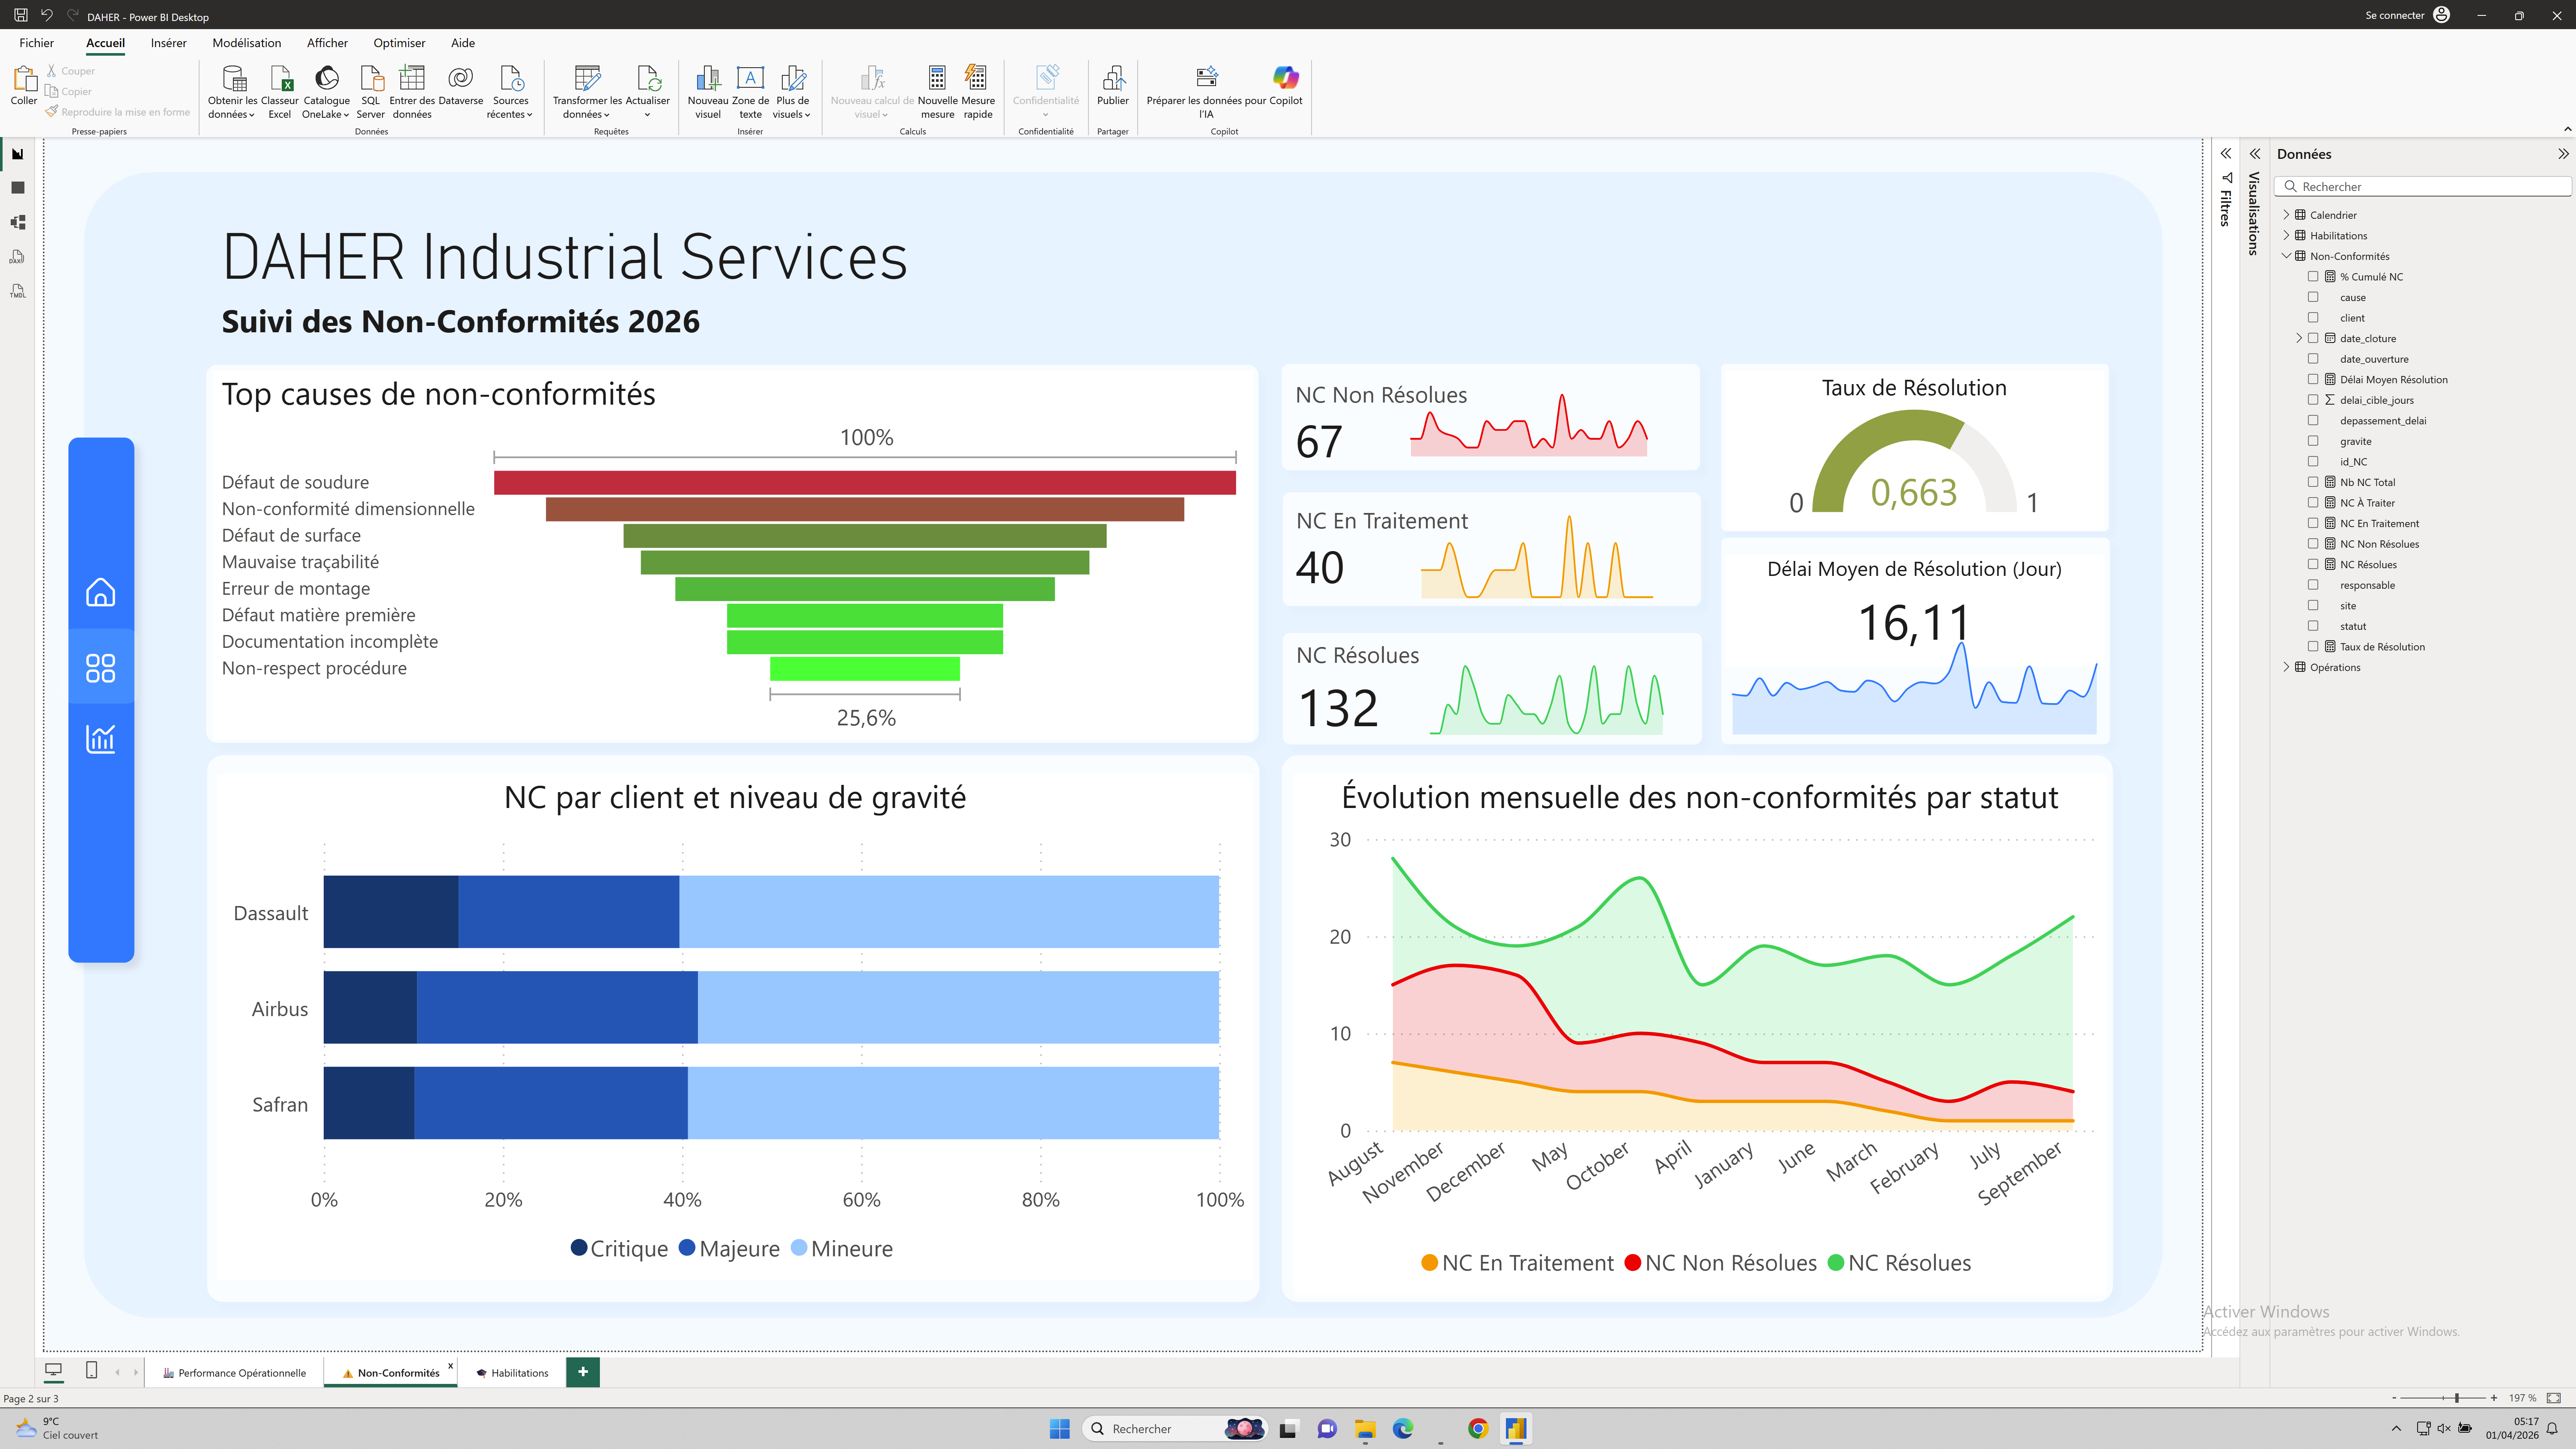

The dashboard page shown, as its layout file describes it:
{"tool":"powerbi","page":{"name":"⚠️ Non-Conformités","canvas":[1280,720],"ordinal":1},"visuals":[{"type":"shape","box":[23.3,20.9,1233.4,679.9],"z":0},{"type":"shape","box":[5,169.2,57.2,329.8],"z":1000},{"type":"shape","box":[10.3,291.4,45.7,44.6],"z":2000},{"type":"group","id":"g1","title":"Group 1","box":[20,249,27.2,129.7],"z":3000},{"type":"image","box":[20,249,27.1,42.1],"z":3000,"group":"g1"},{"type":"shape","box":[86.9,126.2,642.5,242.5],"z":4000},{"type":"image","box":[20,294.3,27.2,42.2],"z":4000,"group":"g1"},{"type":"shape","box":[985.6,125.6,248.1,117.5],"z":5000},{"type":"image","box":[20,336.5,27.1,42.2],"z":5000,"group":"g1"},{"type":"shape","box":[725,357.5,511.2,342.5],"z":6000},{"type":"textbox","box":[100,43,430,60],"z":7000},{"type":"textbox","box":[100,91,605,35],"z":8000},{"type":"shape","box":[725.6,285,266.9,84.4],"z":9000},{"type":"cardVisual","fields":{"Data":["Non-Conformités.NC Résolues"]},"box":[725.6,280.6,131.2,88.1],"z":10000},{"type":"lineChart","fields":{"Category":["Calendrier.date.Variation.Hiérarchie de dates.Année","Calendrier.date.Variation.Hiérarchie de dates.Trimestre","Calendrier.date.Variation.Hiérarchie de dates.Mois","Calendrier.date.Variation.Hiérarchie de dates.Jour"],"Y":["Non-Conformités.NC Résolues"]},"box":[802.5,294.4,183.1,65.6],"z":11000},{"type":"shape","box":[725.6,201.9,266.2,85.6],"z":12000},{"type":"shape","box":[725,125.6,266.2,81.2],"z":13000},{"type":"cardVisual","fields":{"Data":["Non-Conformités.NC En Traitement"]},"box":[725.6,200.6,167.5,73.1],"z":14000},{"type":"cardVisual","fields":{"Data":["Non-Conformités.NC Non Résolues"]},"box":[725,126.2,181.2,80.6],"z":15000},{"type":"lineChart","fields":{"Category":["Calendrier.date.Variation.Hiérarchie de dates.Année","Calendrier.date.Variation.Hiérarchie de dates.Trimestre","Calendrier.date.Variation.Hiérarchie de dates.Mois","Calendrier.date.Variation.Hiérarchie de dates.Jour"],"Y":["Non-Conformités.NC En Traitement"]},"box":[791.2,210.6,194.4,68.1],"z":16000},{"type":"lineChart","fields":{"Category":["Calendrier.date.Variation.Hiérarchie de dates.Année","Calendrier.date.Variation.Hiérarchie de dates.Trimestre","Calendrier.date.Variation.Hiérarchie de dates.Mois","Calendrier.date.Variation.Hiérarchie de dates.Jour"],"Y":["Non-Conformités.NC Non Résolues"]},"box":[784.4,133.8,198.1,61.9],"z":17000},{"type":"gauge","fields":{"Y":["Non-Conformités.Taux de Résolution"]},"box":[997.5,138.8,224.4,93.8],"z":18000},{"type":"shape","box":[985.6,228.8,248.8,140.6],"z":19000},{"type":"card","title":"Délai Moyen de Résolution (Jour)","fields":{"Values":["Non-Conformités.Délai Moyen Résolution"]},"box":[997.5,247.5,224.4,66.2],"z":20000},{"type":"lineChart","fields":{"Category":["Calendrier.date.Variation.Hiérarchie de dates.Année","Calendrier.date.Variation.Hiérarchie de dates.Trimestre","Calendrier.date.Variation.Hiérarchie de dates.Mois","Calendrier.date.Variation.Hiérarchie de dates.Jour"],"Y":["Non-Conformités.Délai Moyen Résolution"]},"box":[978.8,272.5,270,88.1],"z":21000},{"type":"stackedAreaChart","title":"Évolution mensuelle des non-conformités par statut","fields":{"Category":["Calendrier.mois_libelle"],"Y":["Non-Conformités.NC En Traitement","Non-Conformités.NC Non Résolues","Non-Conformités.NC Résolues"]},"box":[741.2,378.1,481.9,308.8],"z":22000},{"type":"funnel","title":"Top causes de non-conformités","fields":{"Category":["Non-Conformités.cause"],"Y":["Non-Conformités.Nb NC Total"]},"box":[100,138.8,616.9,218.8],"z":23000},{"type":"shape","box":[87.5,357.5,642.5,342.5],"z":24000},{"type":"hundredPercentStackedBarChart","title":"NC par client et niveau de gravité","fields":{"Category":["Non-Conformités.client"],"Y":["Non-Conformités.Nb NC Total"],"Series":["Non-Conformités.gravite"]},"box":[102.5,378.1,614.4,300],"z":25000}]}

Visuals, with their boxes on the page's 1280x720 design canvas (x1, y1, x2, y2). These are canvas units, not pixel positions in the 2576x1449 screenshot, which may show the page scaled, cropped or inside an application window:
shape: 23 21 1257 701
shape: 5 169 62 499
shape: 10 291 56 336
"Group 1" group: 20 249 47 379
image: 20 249 47 291
shape: 87 126 729 369
image: 20 294 47 336
shape: 986 126 1234 243
image: 20 336 47 379
shape: 725 358 1236 700
textbox: 100 43 530 103
textbox: 100 91 705 126
shape: 726 285 992 369
cardVisual - Non-Conformités.NC Résolues: 726 281 857 369
lineChart - Calendrier.date.Variation.Hiérarchie de dates.Année x Calendrier.date.Variation.Hiérarchie de dates.Trimestre: 802 294 986 360
shape: 726 202 992 288
shape: 725 126 991 207
cardVisual - Non-Conformités.NC En Traitement: 726 201 893 274
cardVisual - Non-Conformités.NC Non Résolues: 725 126 906 207
lineChart - Calendrier.date.Variation.Hiérarchie de dates.Année x Calendrier.date.Variation.Hiérarchie de dates.Trimestre: 791 211 986 279
lineChart - Calendrier.date.Variation.Hiérarchie de dates.Année x Calendrier.date.Variation.Hiérarchie de dates.Trimestre: 784 134 982 196
gauge - Non-Conformités.Taux de Résolution: 998 139 1222 233
shape: 986 229 1234 369
"Délai Moyen de Résolution (Jour)" card: 998 248 1222 314
lineChart - Calendrier.date.Variation.Hiérarchie de dates.Année x Calendrier.date.Variation.Hiérarchie de dates.Trimestre: 979 272 1249 361
"Évolution mensuelle des non-conformités par statut" stackedAreaChart: 741 378 1223 687
"Top causes de non-conformités" funnel: 100 139 717 358
shape: 88 358 730 700
"NC par client et niveau de gravité" hundredPercentStackedBarChart: 102 378 717 678
